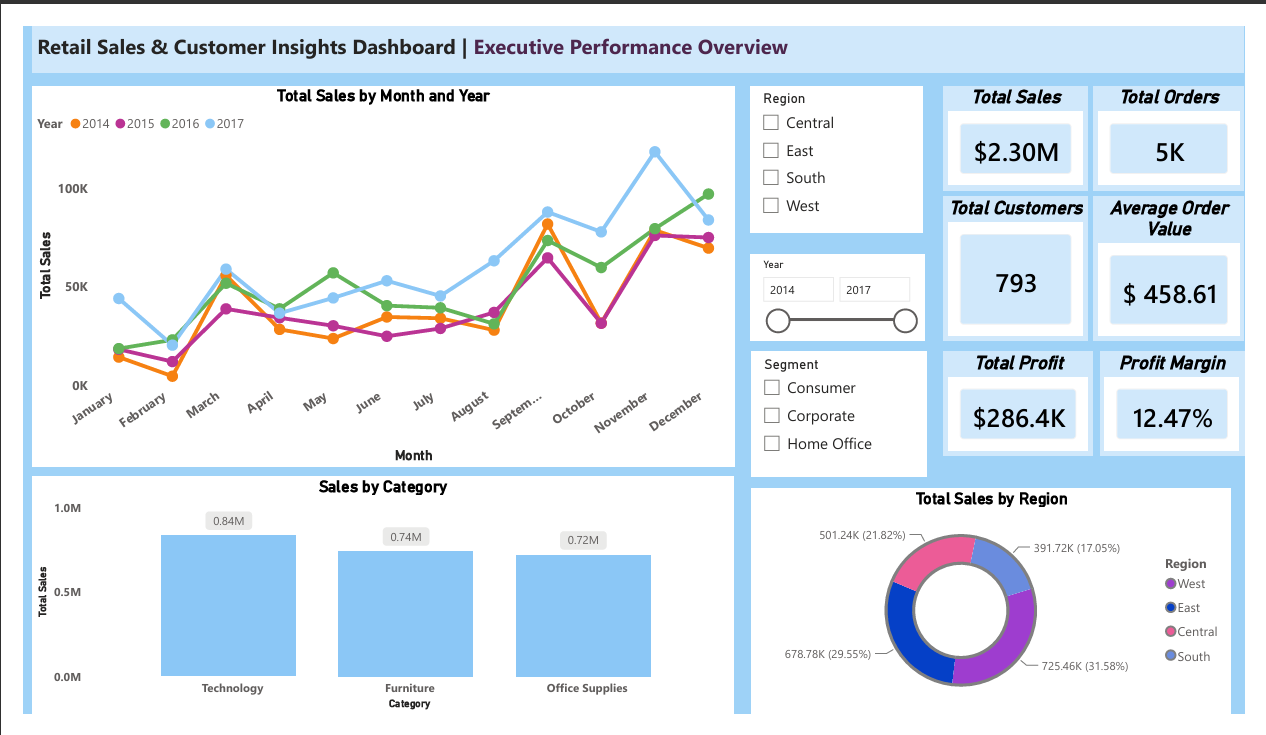

This screenshot's page, from the dashboard's own definition file:
{"tool":"powerbi","page":{"name":"Executive Dashboard","canvas":[1280,720],"ordinal":0},"visuals":[{"type":"textbox","box":[9.4,0,1269.9,49.1],"z":0},{"type":"cardVisual","title":"Total Sales","fields":{"Data":["SuperstoreSales.Total Sales"]},"box":[963.8,62.4,151.2,109.6],"z":1000},{"type":"cardVisual","title":"Total Profit","fields":{"Data":["SuperstoreSales.Total Profit"]},"box":[963.8,340.2,156.9,109.6],"z":2000},{"type":"cardVisual","title":"Total Orders","fields":{"Data":["SuperstoreSales.Total Orders"]},"box":[1120.6,62.4,158.7,109.6],"z":3000},{"type":"cardVisual","title":"Total Customers","fields":{"Data":["SuperstoreSales.Total Customers"]},"box":[963.8,177.6,151.2,151.2],"z":4000},{"type":"cardVisual","title":"Average Order Value","fields":{"Data":["SuperstoreSales.Average Order Value"]},"box":[1120.6,177.6,158.7,151.2],"z":5000},{"type":"cardVisual","title":"Profit  Margin","fields":{"Data":["SuperstoreSales.Profit Margin"]},"box":[1128.2,340.2,151.2,109.6],"z":6000},{"type":"slicer","fields":{"Values":["DateTable.Year"]},"box":[761.6,238.1,183.3,90.7],"z":7000},{"type":"slicer","fields":{"Values":["SuperstoreSales.Region"]},"box":[761.6,62.4,181.4,153.1],"z":8000},{"type":"slicer","fields":{"Values":["SuperstoreSales.Segment"]},"box":[763.5,340.2,183.3,130.4],"z":9000},{"type":"lineChart","fields":{"Category":["DateTable.Month"],"Y":["SuperstoreSales.Total Sales"],"Series":["DateTable.Year"]},"box":[9.4,62.4,735.1,398.7],"z":10000},{"type":"clusteredColumnChart","title":"Sales by Category","fields":{"Category":["SuperstoreSales.Category"],"Y":["SuperstoreSales.Total Sales"]},"box":[9,471,735,249],"z":11000},{"type":"donutChart","fields":{"Category":["SuperstoreSales.Region"],"Y":["SuperstoreSales.Total Sales"]},"box":[763.5,483.8,502.7,236.2],"z":12000}]}

Visuals, with their boxes on the page's 1280x720 design canvas (x1, y1, x2, y2). These are canvas units, not pixel positions in the 1266x735 screenshot, which may show the page scaled, cropped or inside an application window:
textbox: <region>9, 0, 1279, 49</region>
"Total Sales" cardVisual: <region>964, 62, 1115, 172</region>
"Total Profit" cardVisual: <region>964, 340, 1121, 450</region>
"Total Orders" cardVisual: <region>1121, 62, 1279, 172</region>
"Total Customers" cardVisual: <region>964, 178, 1115, 329</region>
"Average Order Value" cardVisual: <region>1121, 178, 1279, 329</region>
"Profit  Margin" cardVisual: <region>1128, 340, 1279, 450</region>
slicer - DateTable.Year: <region>762, 238, 945, 329</region>
slicer - SuperstoreSales.Region: <region>762, 62, 943, 216</region>
slicer - SuperstoreSales.Segment: <region>764, 340, 947, 471</region>
lineChart - DateTable.Month x SuperstoreSales.Total Sales: <region>9, 62, 744, 461</region>
"Sales by Category" clusteredColumnChart: <region>9, 471, 744, 720</region>
donutChart - SuperstoreSales.Region x SuperstoreSales.Total Sales: <region>764, 484, 1266, 720</region>
